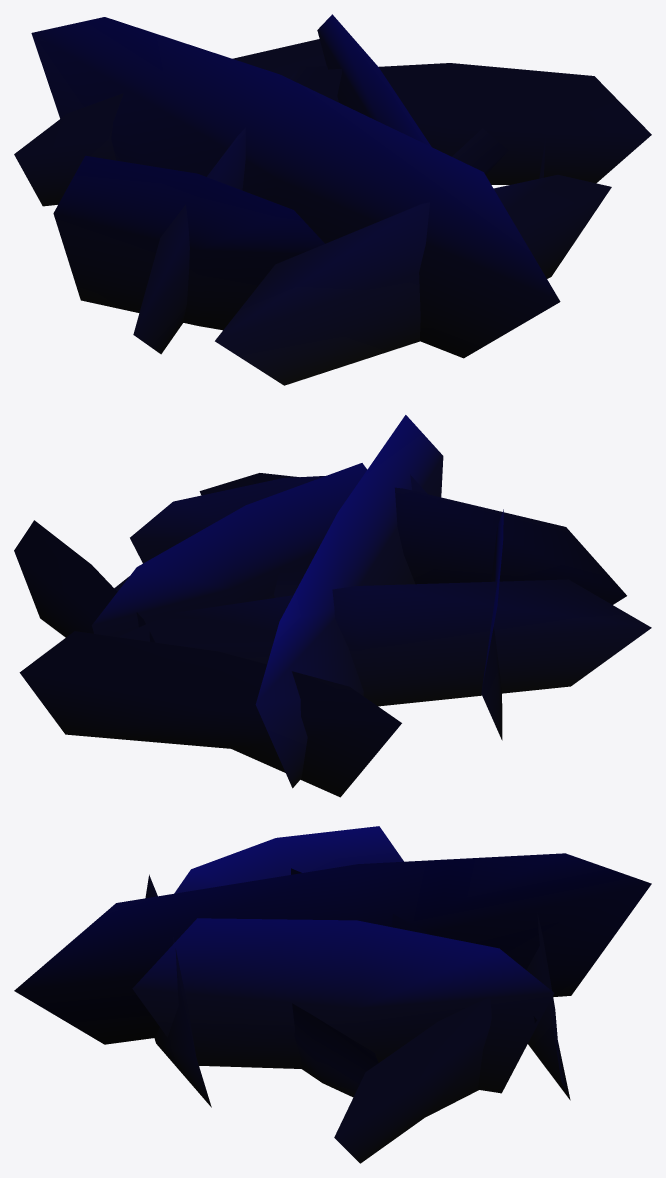
File: SM_Grass_XS_Patch_S_01.fbx
The picture shows the model from 3 angles, top to bottom: view 1: azimuth 30°, elevation 25°; view 2: azimuth 150°, elevation 25°; view 3: azimuth 270°, elevation 25°; orthographic projection. The views are drawn at different scales.
Visible parts, largest first — view 1: SM_Grass_XS_Patch_S_01; view 2: SM_Grass_XS_Patch_S_01; view 3: SM_Grass_XS_Patch_S_01.
Boxes of the visible parts, x1,y1,x2,y2 form: SM_Grass_XS_Patch_S_01: (14, 14, 651, 385); SM_Grass_XS_Patch_S_01: (14, 415, 651, 797); SM_Grass_XS_Patch_S_01: (14, 826, 651, 1163).
Size of the model in its own units: 65.78 by 69.35 by 19.83.
